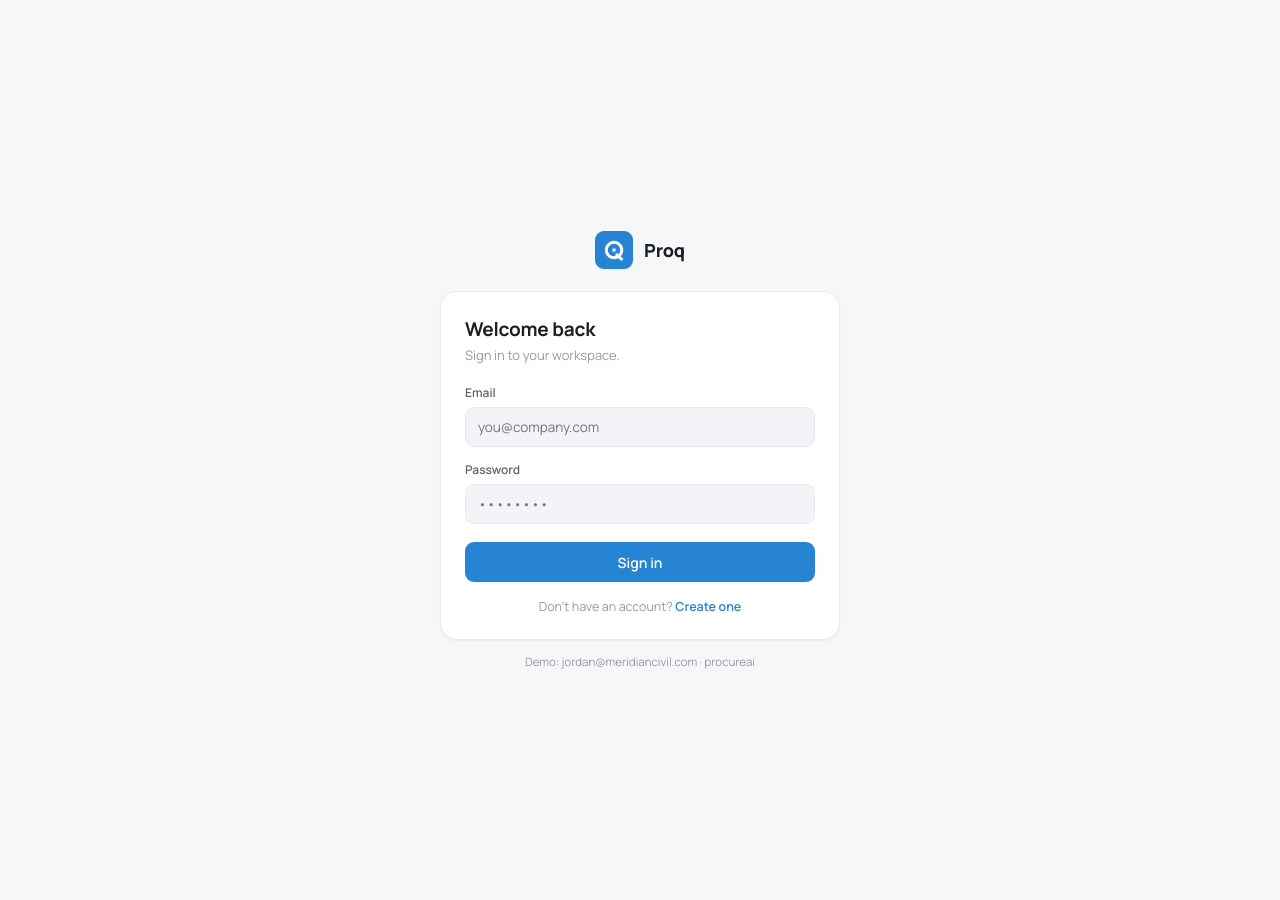
Test case: quotes → compare → award › compares a custom package by its key, not its label
The width and height of the screenshot is (1280, 900).
Type "pm@acmebuild.com" into the field with placeholder "you@company.com" at (640, 427), box [465, 407, 815, 447]
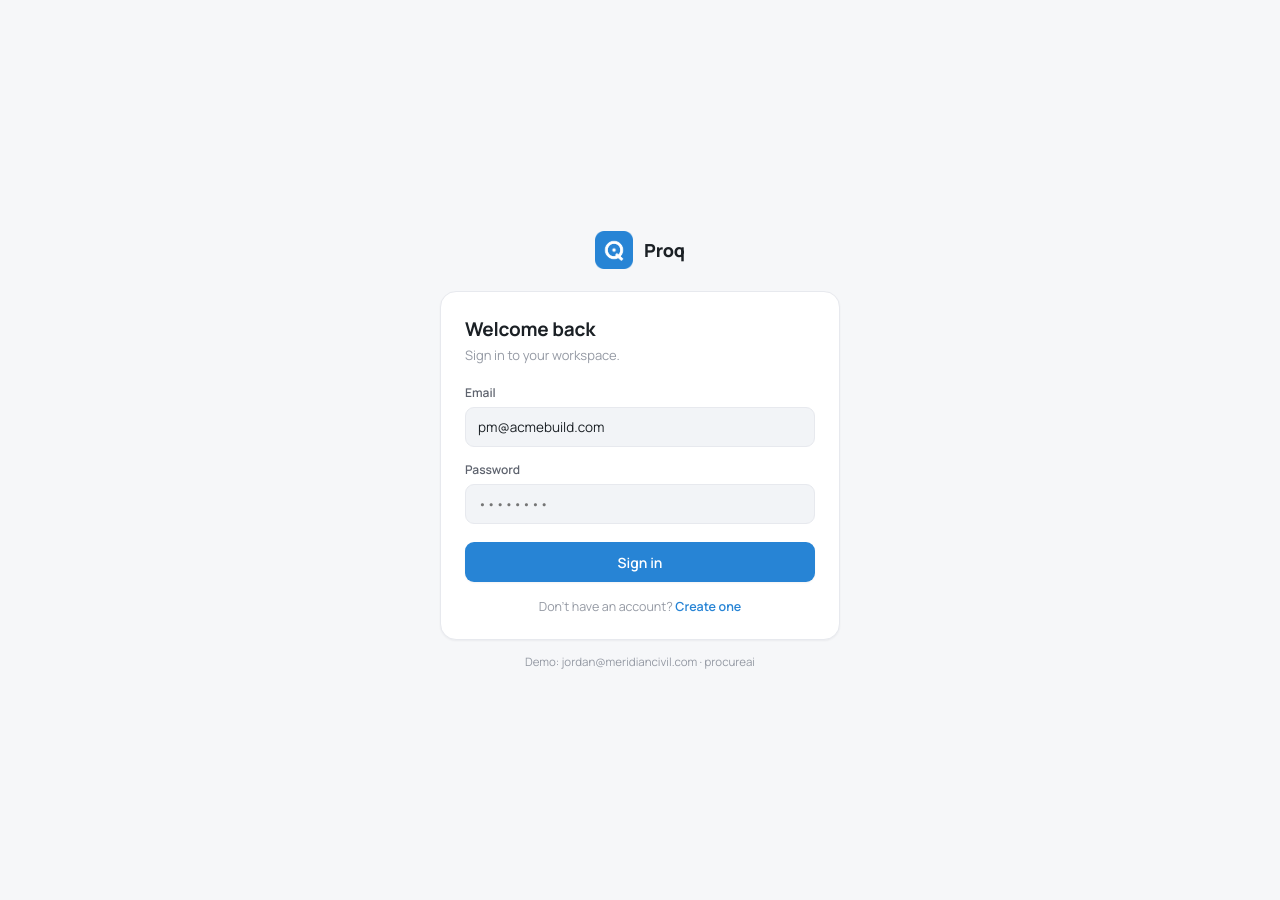
Type "password123" into the password field with placeholder "••••••••" at (640, 504), box [465, 484, 815, 524]
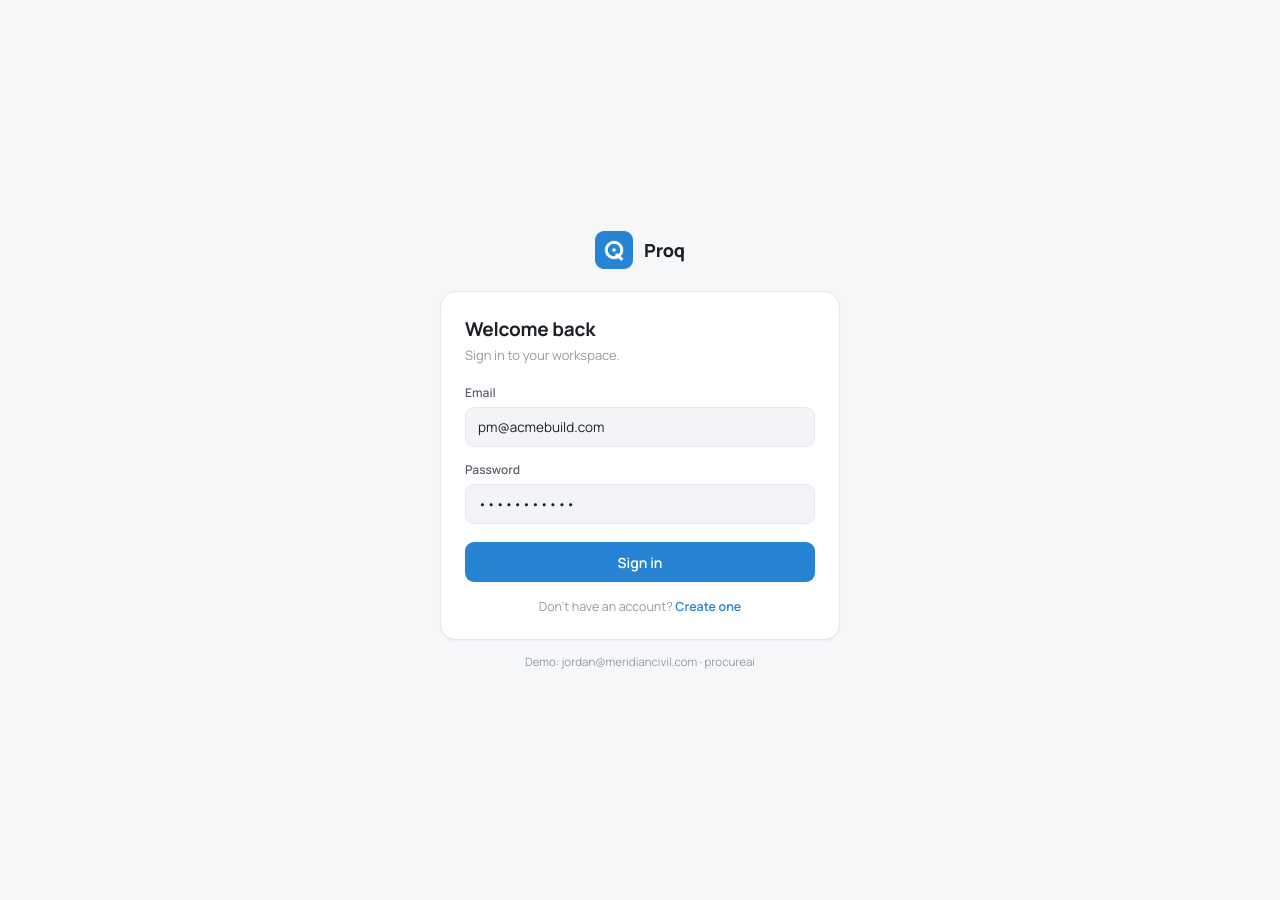
Click the button "Sign in" at (640, 562), box [465, 542, 815, 582]
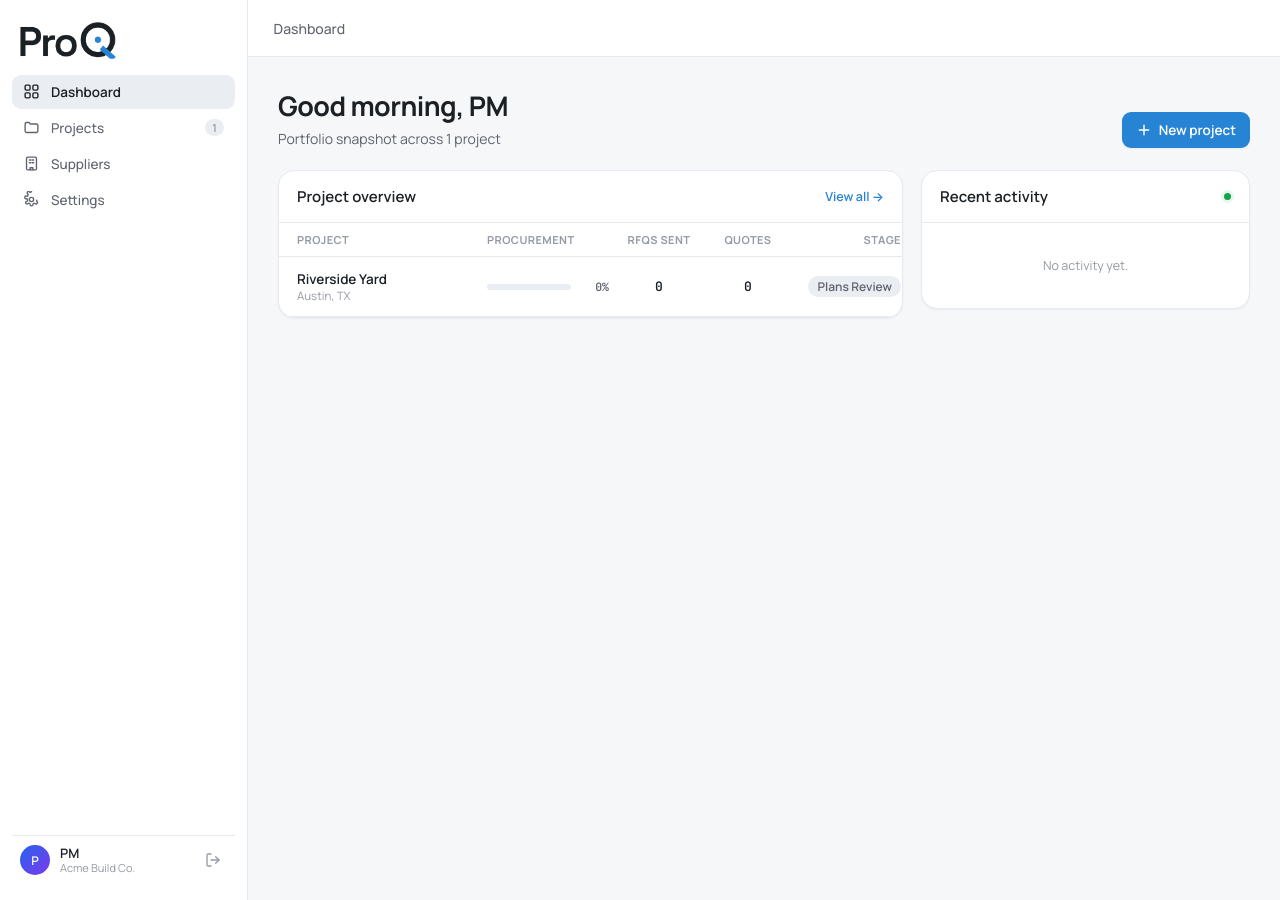
Click the text "Riverside Yard" at (342, 279), box [297, 270, 387, 288]
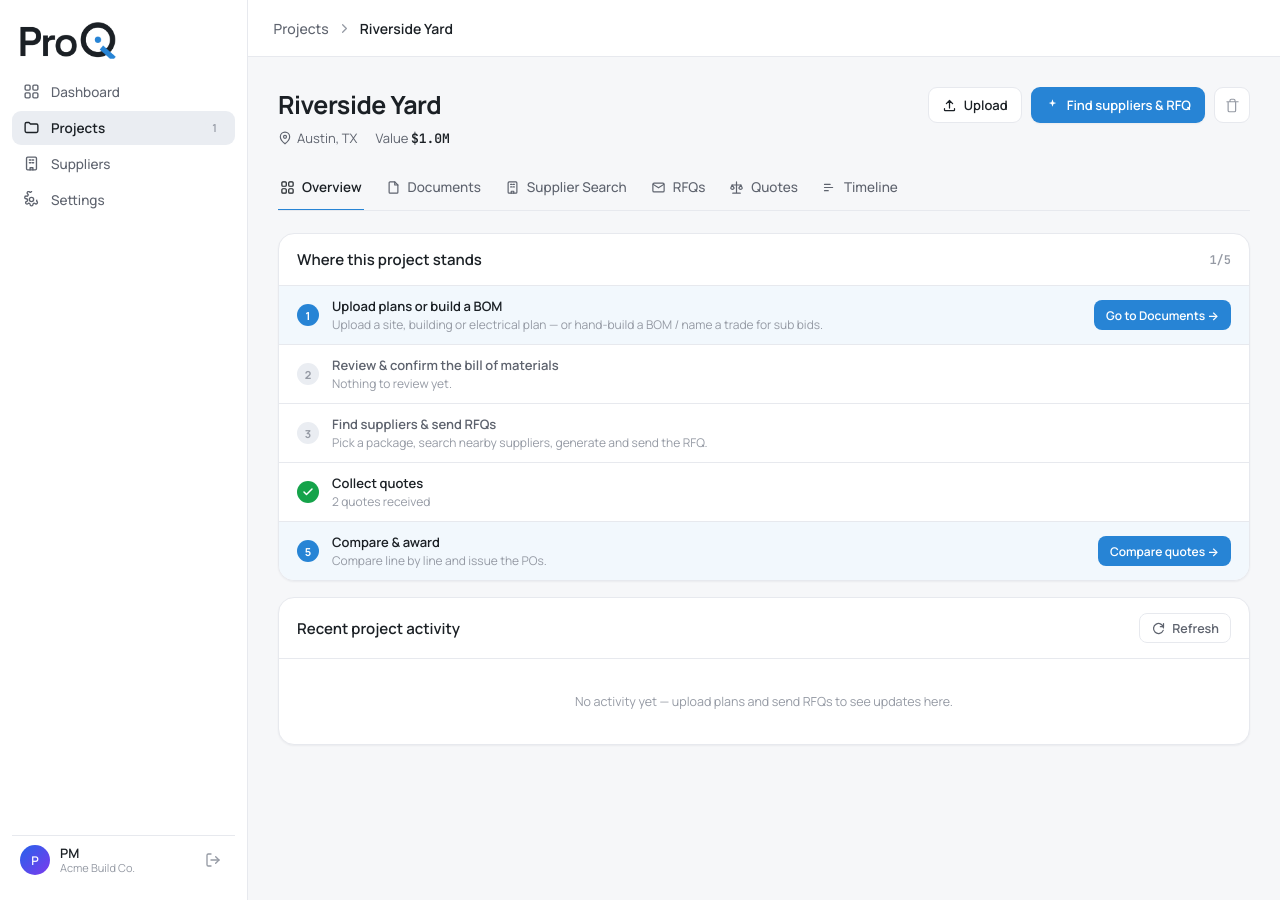
Click the button "Quotes" at (764, 188), box [727, 165, 800, 211]
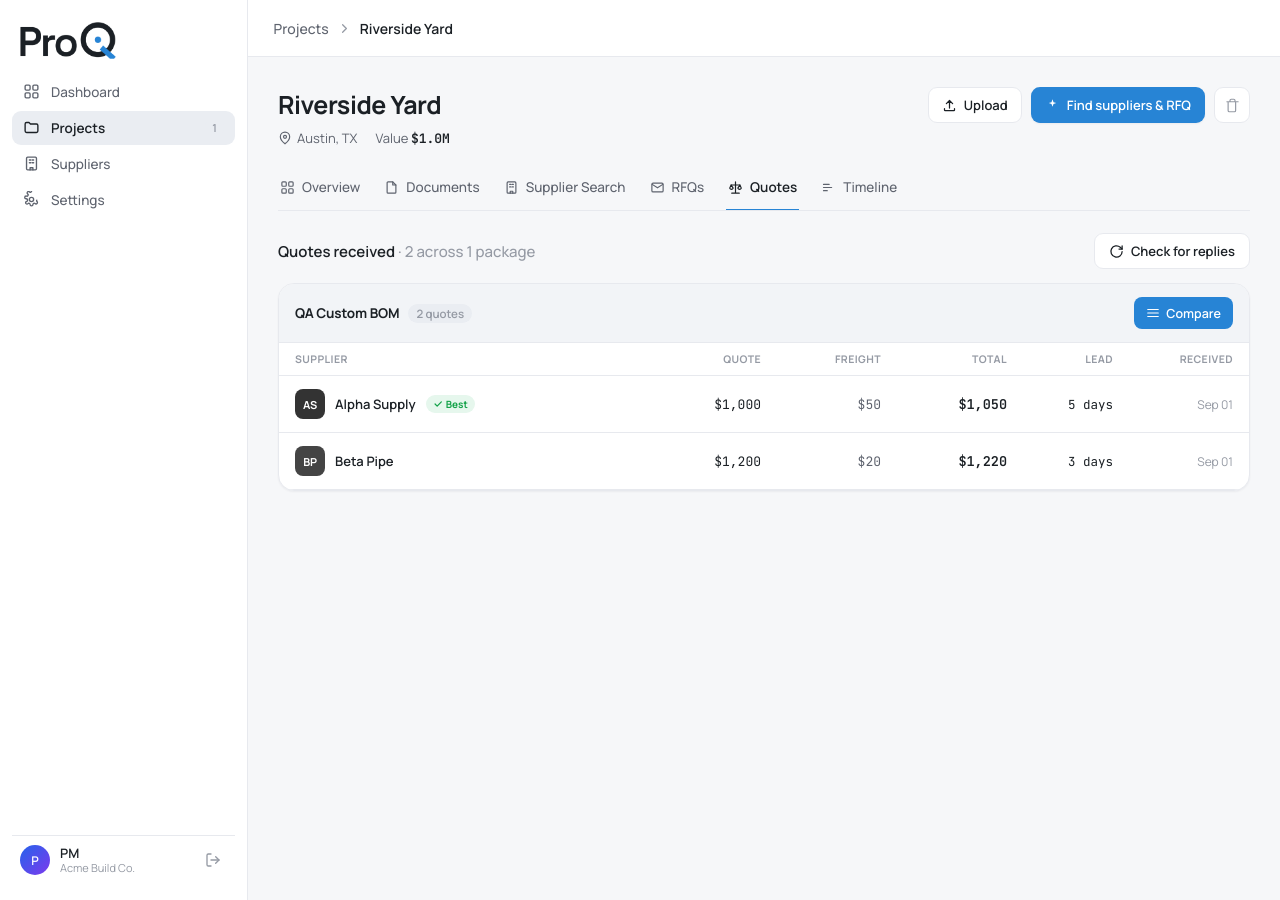
Click the button "Compare" at (1184, 313), box [1134, 297, 1233, 329]
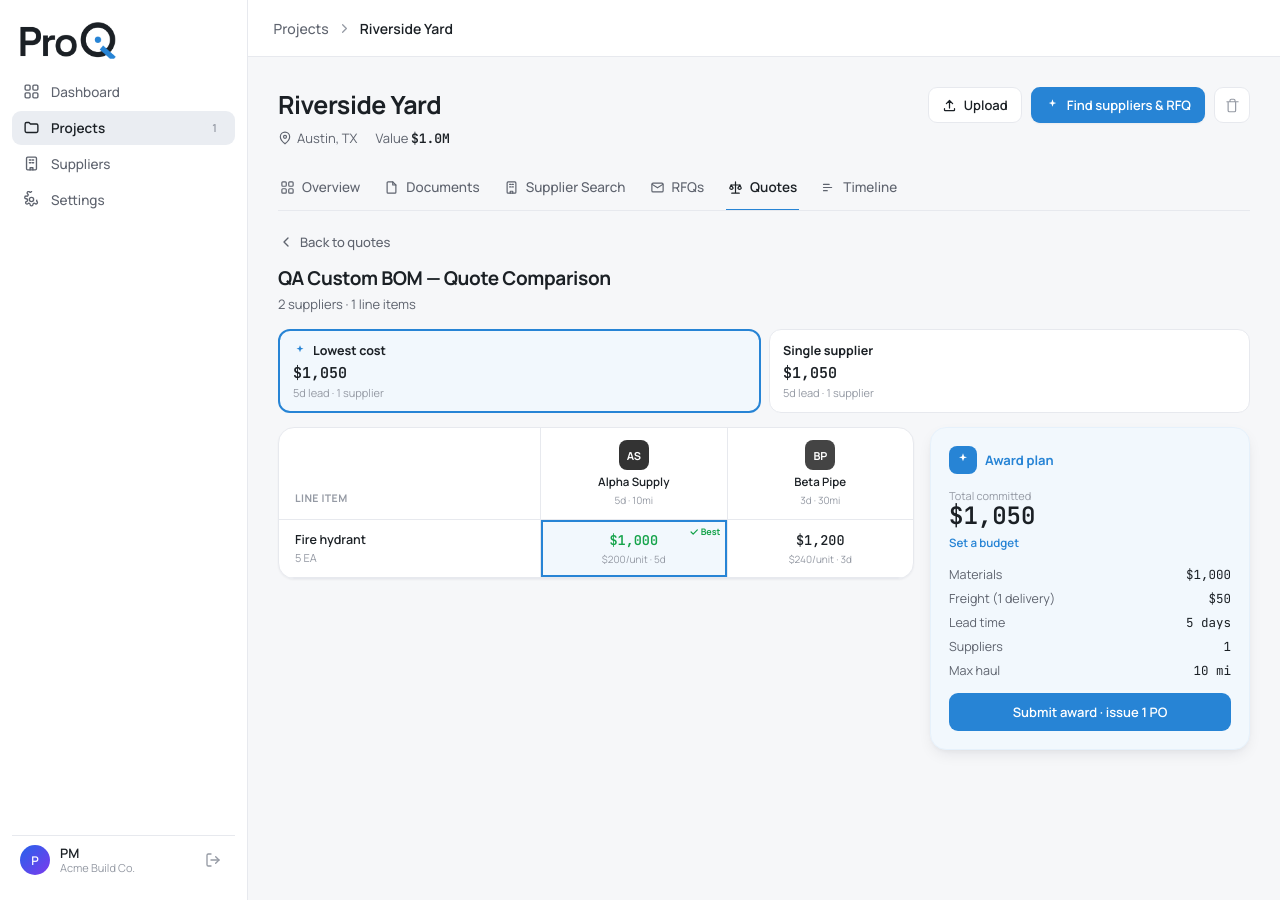
Expected: the heading "QA Custom BOM — Quote Comparison" is shown, [278, 265, 611, 291]
